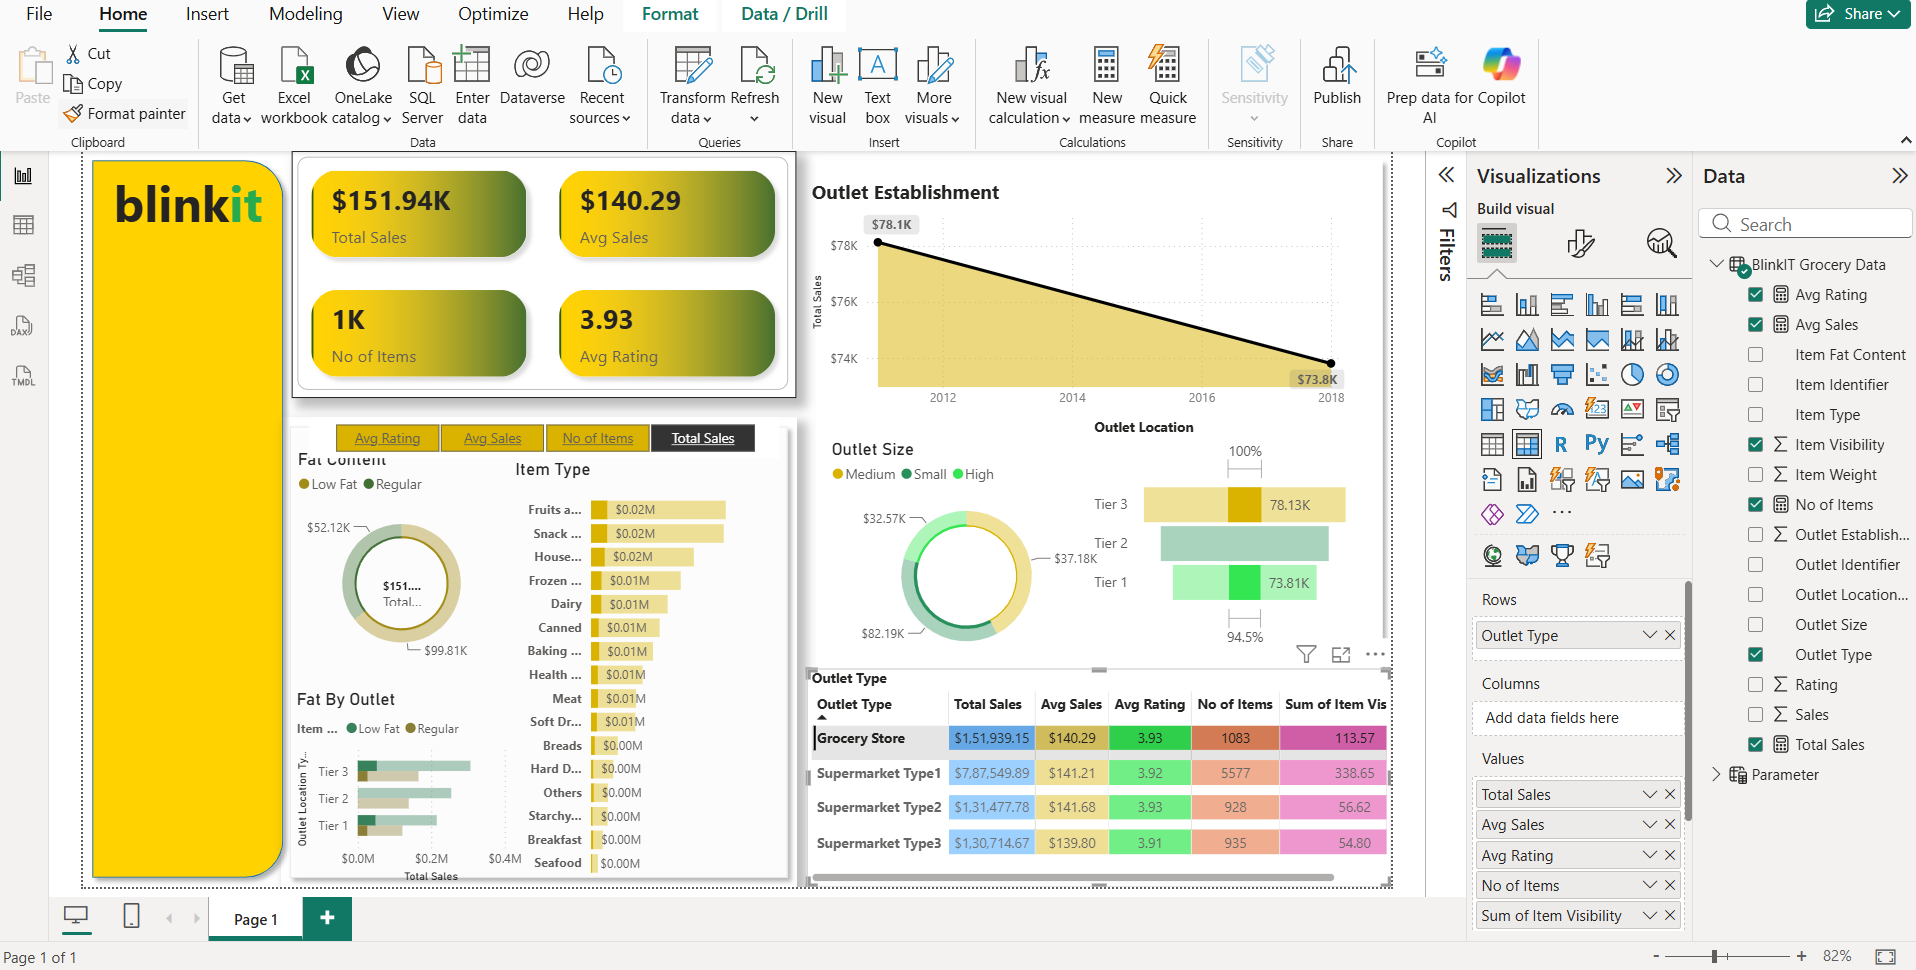

What the dashboard file says about the page in this screenshot:
{"tool":"powerbi","page":{"name":"Page 1","canvas":[1280,720],"ordinal":0},"visuals":[{"type":"shape","box":[0,0,205,720],"z":0},{"type":"textbox","box":[12.3,12.3,181.1,78.2],"z":1000},{"type":"cardVisual","fields":{"Data":["BlinkIT Grocery Data.Total Sales","BlinkIT Grocery Data.Avg Sales","BlinkIT Grocery Data.No of Items","BlinkIT Grocery Data.Avg Rating"]},"box":[204.5,0,494,241.5],"z":2000},{"type":"donutChart","title":"Fat Content","fields":{"Category":["BlinkIT Grocery Data.Item Fat Content"],"Y":["BlinkIT Grocery Data.Avg Rating","BlinkIT Grocery Data.Avg Sales","BlinkIT Grocery Data.No of Items","BlinkIT Grocery Data.Total Sales"]},"box":[204.2,278.8,212.8,231.1],"z":4000},{"type":"cardVisual","fields":{"Data":["BlinkIT Grocery Data.Total Sales"]},"box":[272.7,386.4,77,51.4],"z":6000},{"type":"clusteredBarChart","title":"Fat By Outlet","fields":{"Category":["BlinkIT Grocery Data.Outlet Location Type"],"Series":["BlinkIT Grocery Data.Item Fat Content"],"Y":["BlinkIT Grocery Data.Avg Rating"]},"box":[204.2,525.8,212.8,194.4],"z":7000},{"type":"barChart","title":"Item Type","fields":{"Category":["BlinkIT Grocery Data.Item Type"],"Y":["BlinkIT Grocery Data.Avg Rating","BlinkIT Grocery Data.Avg Sales","BlinkIT Grocery Data.No of Items","BlinkIT Grocery Data.Total Sales"]},"box":[418.2,278.8,264.1,441.4],"z":8000},{"type":"lineChart","title":"Outlet Establishment ","fields":{"Category":["BlinkIT Grocery Data.Outlet Establishment Year"],"Y":["BlinkIT Grocery Data.Total Sales"]},"box":[708,0,561.3,242.1],"z":10000},{"type":"donutChart","title":"Outlet Size","fields":{"Category":["BlinkIT Grocery Data.Outlet Size"],"Y":["BlinkIT Grocery Data.Avg Rating","BlinkIT Grocery Data.Avg Sales","BlinkIT Grocery Data.No of Items","BlinkIT Grocery Data.Total Sales"]},"box":[698.2,260.5,276.4,225],"z":11000},{"type":"funnel","title":"Outlet Location","fields":{"Category":["BlinkIT Grocery Data.Outlet Location Type"],"Y":["Sum(BlinkIT Grocery Data.Sales)"]},"box":[1007.6,260.5,272.7,225],"z":12000},{"type":"pivotTable","title":"Outlet Type","fields":{"Rows":["BlinkIT Grocery Data.Outlet Type"],"Values":["BlinkIT Grocery Data.Total Sales","BlinkIT Grocery Data.Avg Sales","BlinkIT Grocery Data.Avg Rating","BlinkIT Grocery Data.No of Items","Sum(BlinkIT Grocery Data.Item Visibility)"]},"box":[708,509.9,572.3,210.3],"z":13000}]}

Visuals, with their boxes on the page's 1280x720 design canvas (x1, y1, x2, y2). These are canvas units, not pixel positions in the 1916x970 screenshot, which may show the page scaled, cropped or inside an application window:
shape: 0/0/205/720
textbox: 12/12/193/90
cardVisual - BlinkIT Grocery Data.Total Sales x BlinkIT Grocery Data.Avg Sales: 204/0/698/242
"Fat Content" donutChart: 204/279/417/510
cardVisual - BlinkIT Grocery Data.Total Sales: 273/386/350/438
"Fat By Outlet" clusteredBarChart: 204/526/417/720
"Item Type" barChart: 418/279/682/720
"Outlet Establishment " lineChart: 708/0/1269/242
"Outlet Size" donutChart: 698/260/975/486
"Outlet Location" funnel: 1008/260/1280/486
"Outlet Type" pivotTable: 708/510/1280/720
